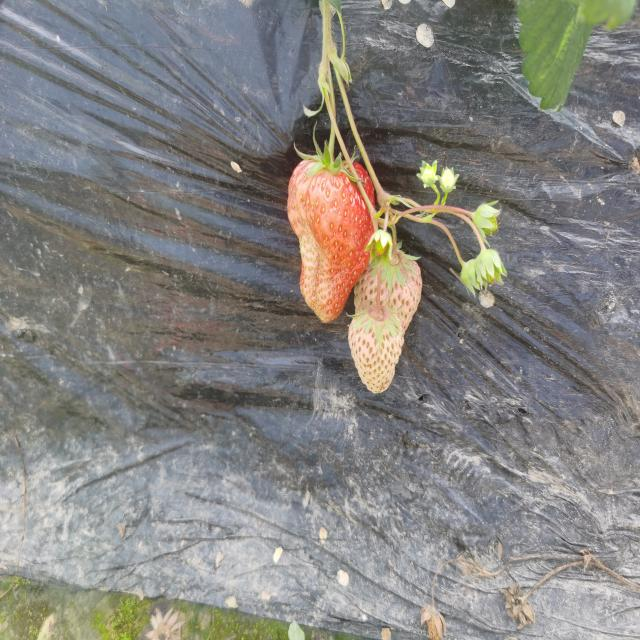stem: (327, 124, 335, 165)
strawberry: (287, 157, 373, 321), (352, 161, 375, 209)
